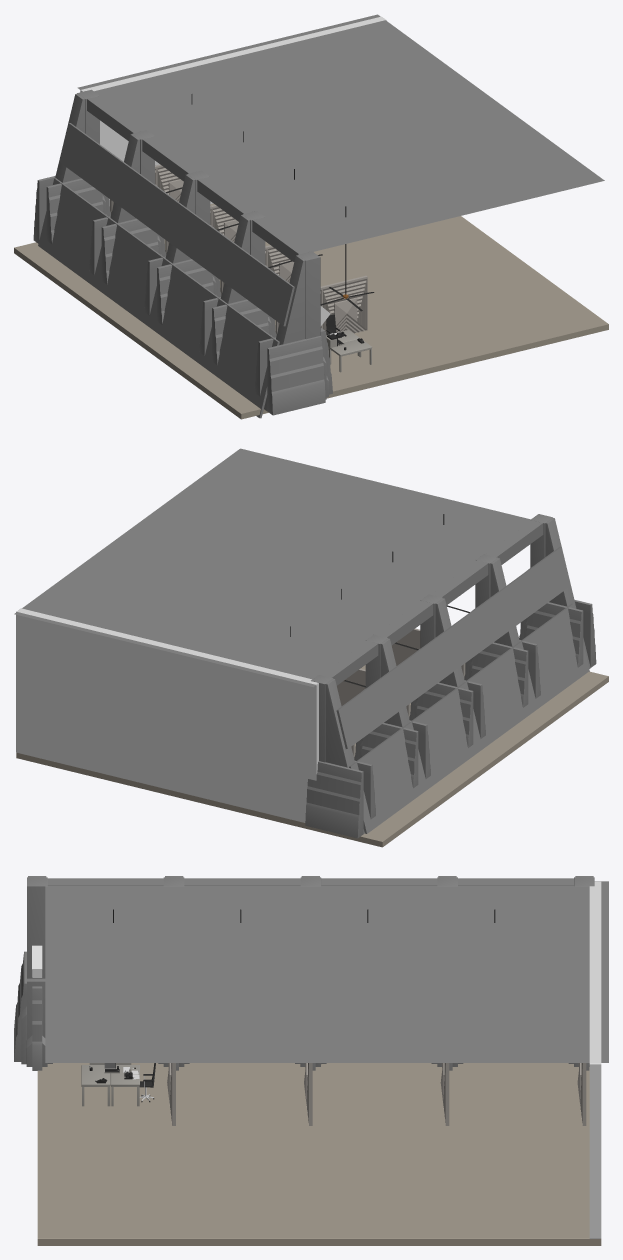
Rendered from blade_runner_office.glb.
3 views of the same model, one above another, from view 1: azimuth 30°, elevation 25°; view 2: azimuth 150°, elevation 25°; view 3: azimuth 270°, elevation 25° (orthographic). The views are drawn at different scales.
Parts seen in each view (by area): view 1: ceiling, floor, pillar_base, outside_wall_bottom_panel, outside_wall_middle_panel, beam, sound_barrier, back_wall, desk.001; view 2: ceiling, back_wall, pillar_base, outside_wall_bottom_panel, outside_wall_middle_panel, floor, beam, sound_barrier; view 3: ceiling, floor, pillar_base, back_wall, beam, sound_barrier, desk.001, desk.
Boxes of the visible parts, x1,y1,x2,y2 form: ceiling: (77, 14, 604, 251); floor: (14, 203, 608, 419); pillar_base: (33, 89, 332, 415); outside_wall_bottom_panel: (38, 178, 279, 418); outside_wall_middle_panel: (59, 123, 294, 326); beam: (87, 96, 309, 261); sound_barrier: (155, 164, 367, 334); back_wall: (80, 16, 386, 205); desk.001: (329, 339, 372, 372); ceiling: (14, 448, 531, 687); back_wall: (16, 608, 318, 822); pillar_base: (305, 514, 596, 838); outside_wall_bottom_panel: (349, 603, 589, 833); outside_wall_middle_panel: (336, 546, 570, 748); floor: (16, 665, 608, 847); beam: (321, 520, 543, 685); sound_barrier: (337, 628, 419, 705); ceiling: (45, 881, 608, 1062); floor: (37, 1063, 601, 1245); pillar_base: (14, 876, 594, 1070); back_wall: (589, 881, 601, 1238); beam: (47, 878, 573, 885); sound_barrier: (167, 1063, 586, 1125); desk.001: (81, 1065, 110, 1106); desk: (110, 1065, 139, 1106).
Size of the model in its own units: 14.39 by 6.01 by 16.24.
